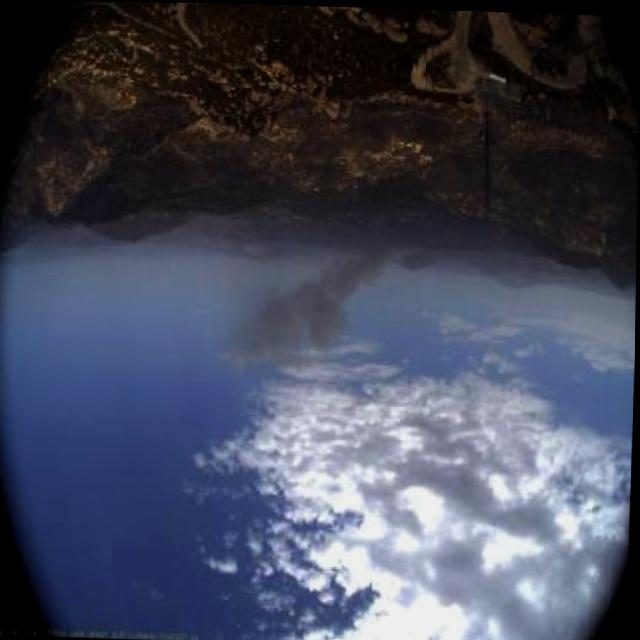no_helmet: (216, 219, 415, 380)
